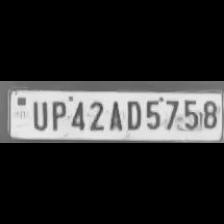2: (86, 98, 104, 132)
4: (68, 97, 86, 130)
5: (178, 97, 198, 131), (143, 97, 161, 131)
7: (162, 97, 178, 131)
8: (200, 98, 218, 130)
A: (106, 97, 122, 130)
D: (124, 97, 142, 131)
P: (47, 97, 66, 130)
U: (28, 97, 48, 130)
